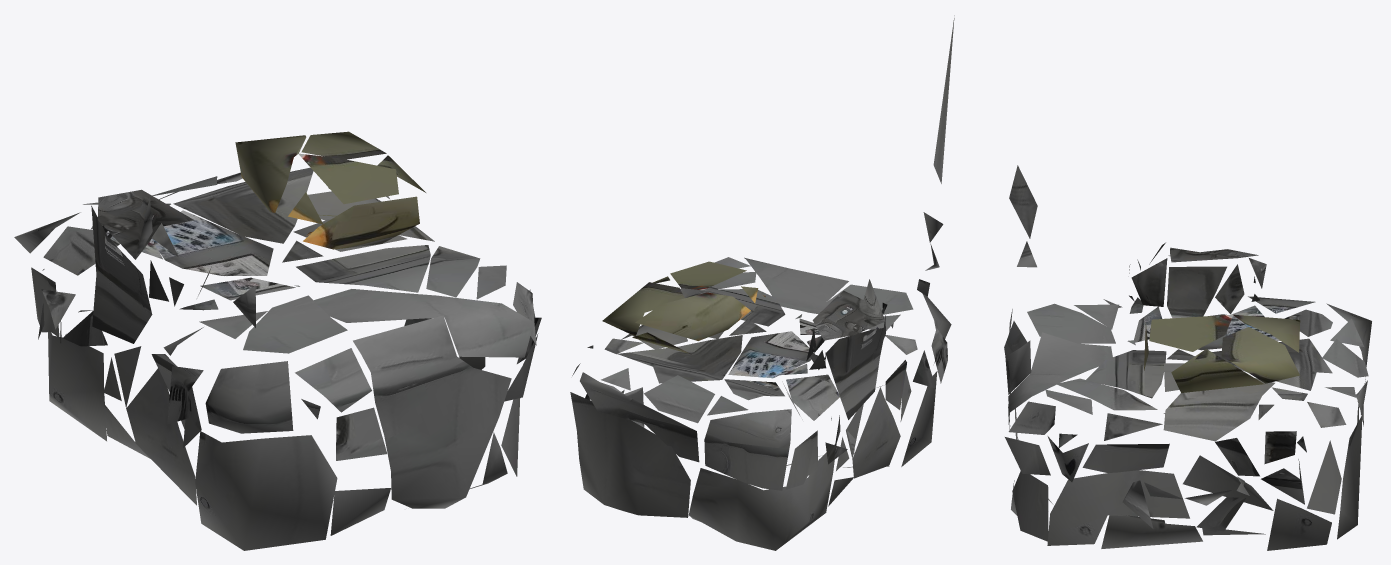
Rendered from prop_expedition_radio_station_LOD3.glb.
3 renders of one model, left to right at view 1: azimuth 30°, elevation 25°; view 2: azimuth 150°, elevation 25°; view 3: azimuth 270°, elevation 25°, orthographic. The views are drawn at different scales.
Visible parts, largest first — view 1: tripo_node_0a4e3f66-2cd6-4ce0-ba71-ba6d2677f7e4; view 2: tripo_node_0a4e3f66-2cd6-4ce0-ba71-ba6d2677f7e4; view 3: tripo_node_0a4e3f66-2cd6-4ce0-ba71-ba6d2677f7e4.
Boxes of the visible parts, x1,y1,x2,y2 form: tripo_node_0a4e3f66-2cd6-4ce0-ba71-ba6d2677f7e4: (14, 131, 541, 550); tripo_node_0a4e3f66-2cd6-4ce0-ba71-ba6d2677f7e4: (570, 15, 954, 550); tripo_node_0a4e3f66-2cd6-4ce0-ba71-ba6d2677f7e4: (1004, 165, 1371, 550).
Bounding box in the file's own units: 0.6701 × 0.9993 × 0.8109.
1 material, 1 textured.
